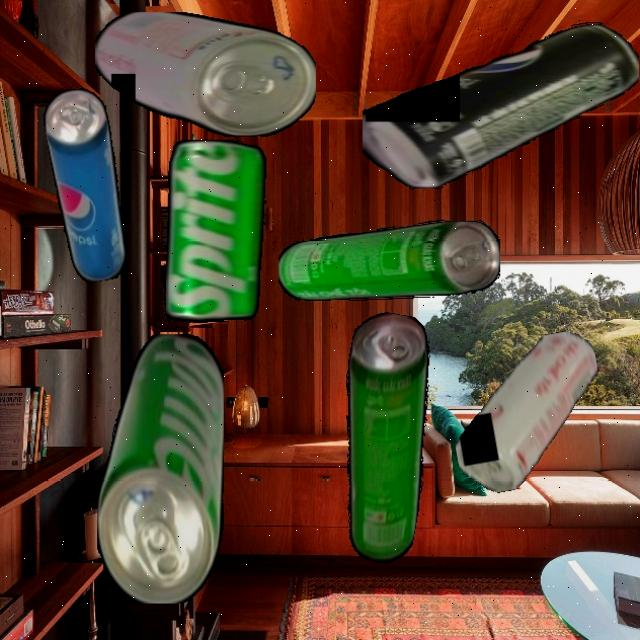debris: (362, 22, 639, 190), (316, 308, 451, 567), (96, 333, 224, 604), (440, 327, 616, 498), (94, 12, 316, 137), (166, 139, 298, 323), (40, 85, 136, 286), (278, 220, 500, 301)
